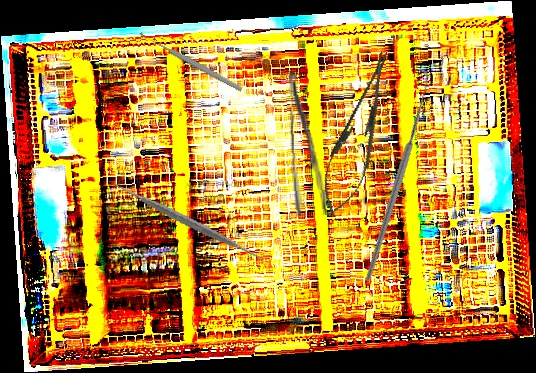Dressing Forceps: (286, 69, 328, 217)
Hook Surgical: (285, 66, 505, 284)
Needle Holder: (311, 45, 406, 223)
Spatula Surgical: (111, 146, 266, 297)
Surgical Spoon: (138, 30, 244, 93)
